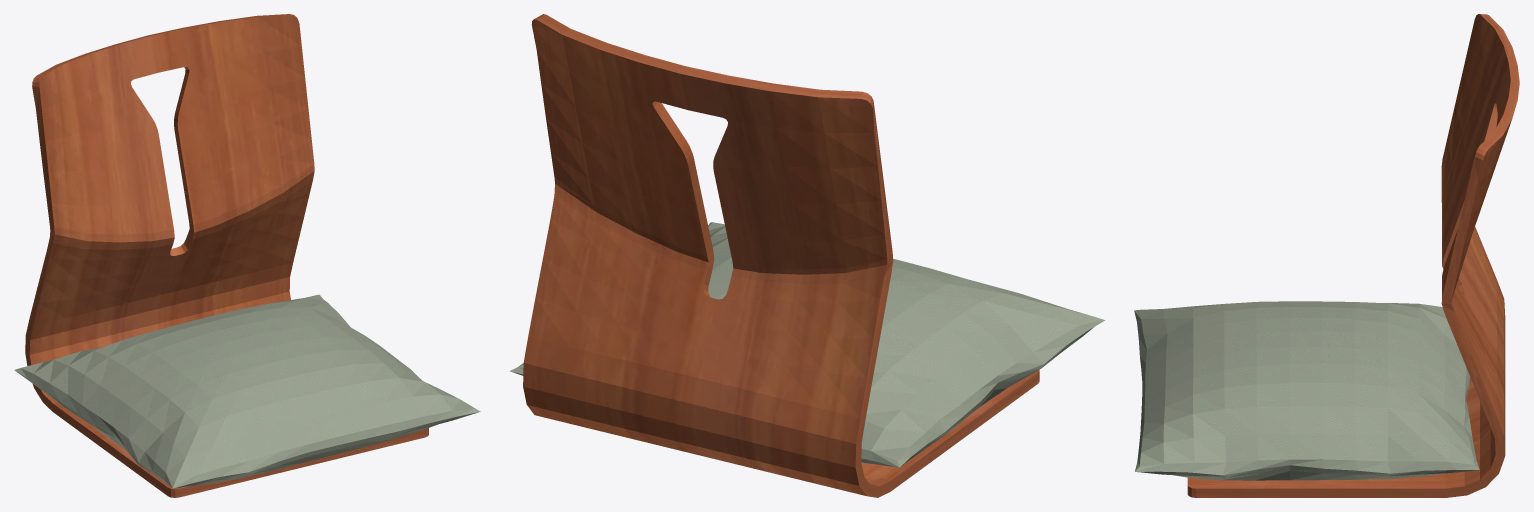
Rendered from sh-scopia-ryokan-chair.glb.
3 renders of one model, left to right at view 1: azimuth 30°, elevation 25°; view 2: azimuth 150°, elevation 25°; view 3: azimuth 270°, elevation 25°, orthographic. The views are drawn at different scales.
Parts seen in each view (by area): view 1: chair_Cube, cushion_Cube.002; view 2: chair_Cube, cushion_Cube.002; view 3: cushion_Cube.002, chair_Cube.
Part boxes in pixels (bbox=[...]): chair_Cube: bbox=[25, 14, 428, 497]; cushion_Cube.002: bbox=[14, 294, 480, 488]; chair_Cube: bbox=[523, 14, 1039, 497]; cushion_Cube.002: bbox=[509, 222, 1105, 467]; cushion_Cube.002: bbox=[1134, 301, 1479, 480]; chair_Cube: bbox=[1187, 14, 1519, 497].
Bounding box in the file's own units: 1 × 1 × 1.
Materials: 2 (2 with a texture image).
